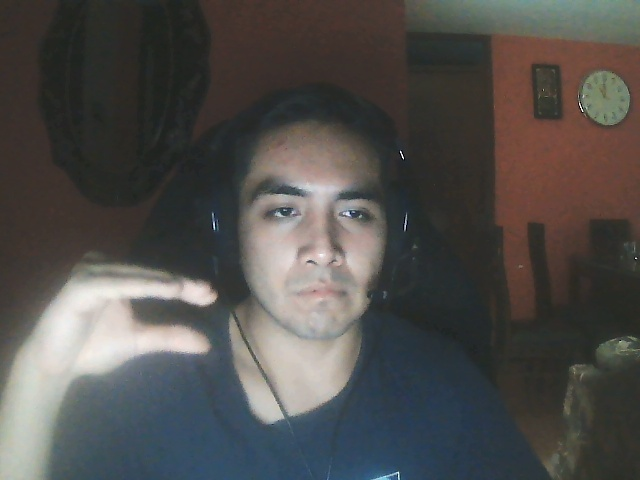no: (25, 247, 217, 385)
